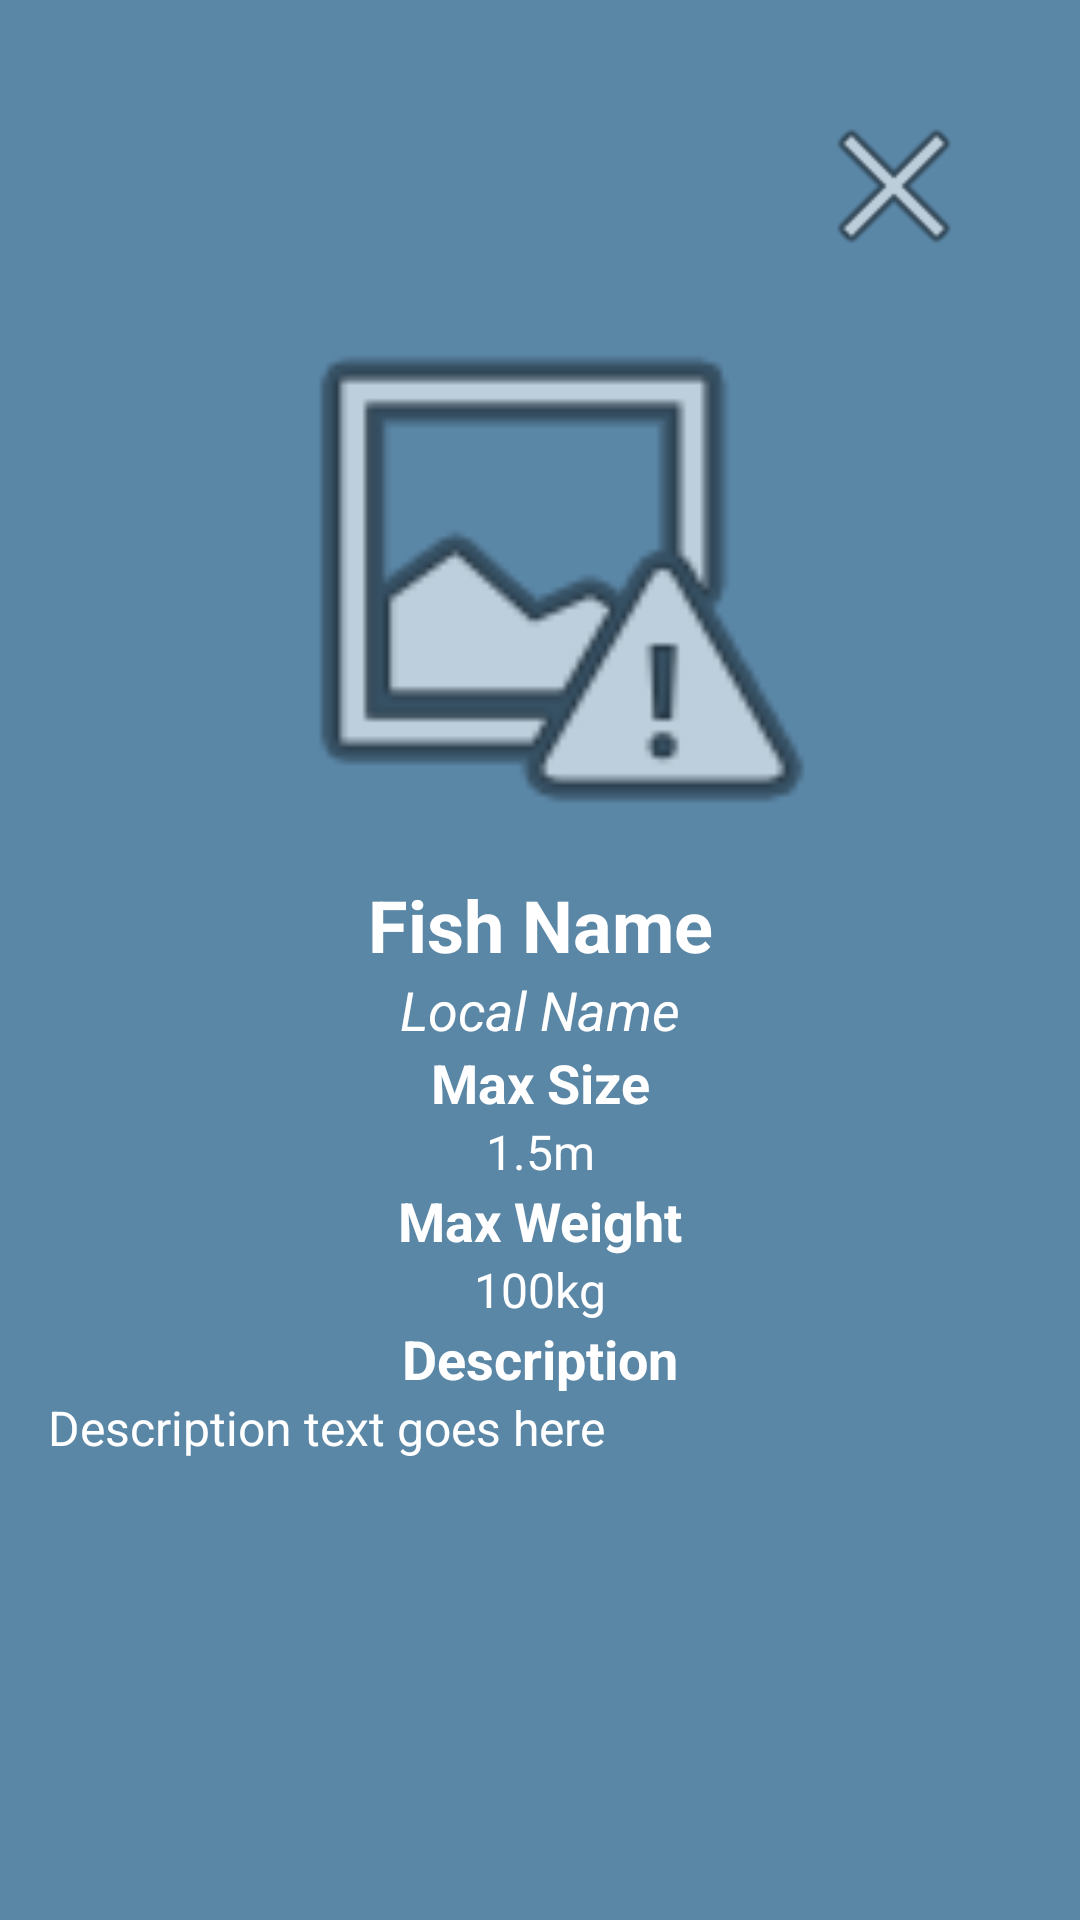

Icons on this 1080*1920 Android screen, each with the point to tap as (x=x, y=y):
close clear cancel: (x=894, y=186)
